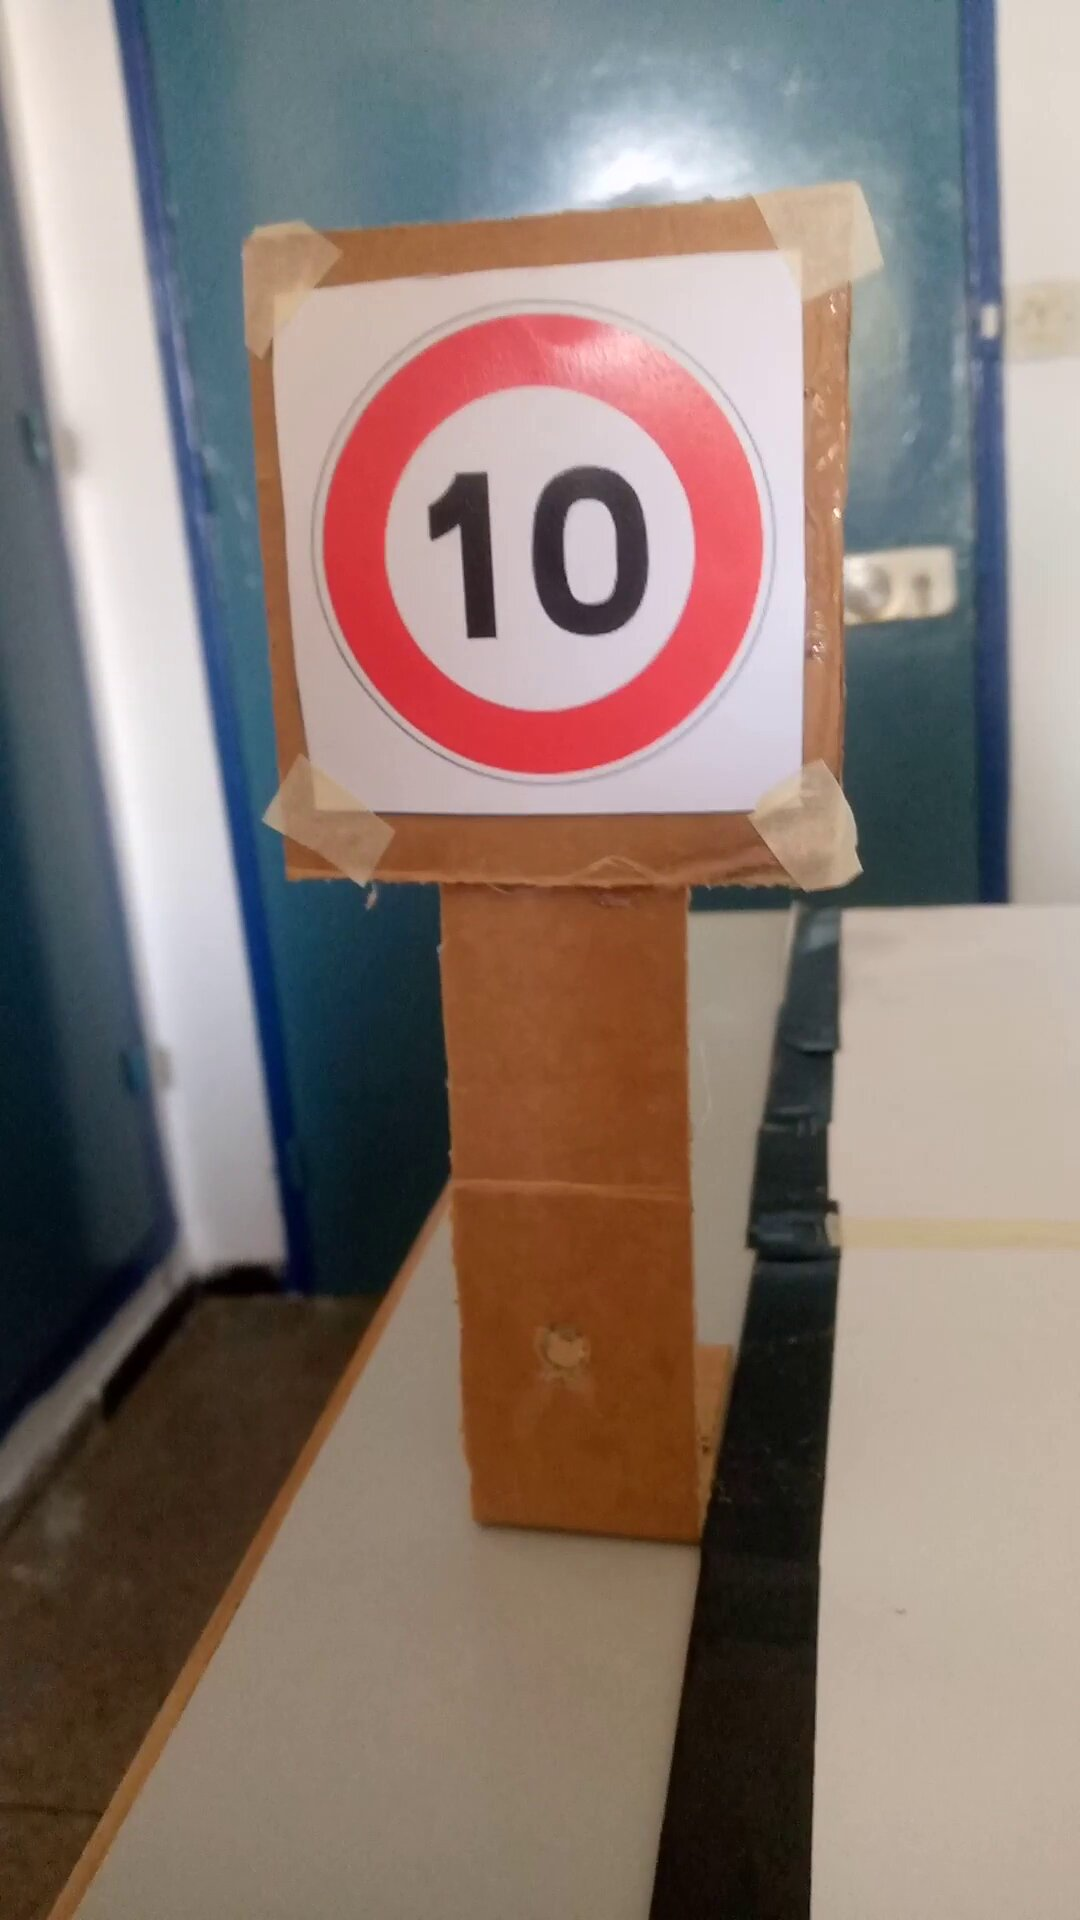panel011: (255, 277, 822, 837)
